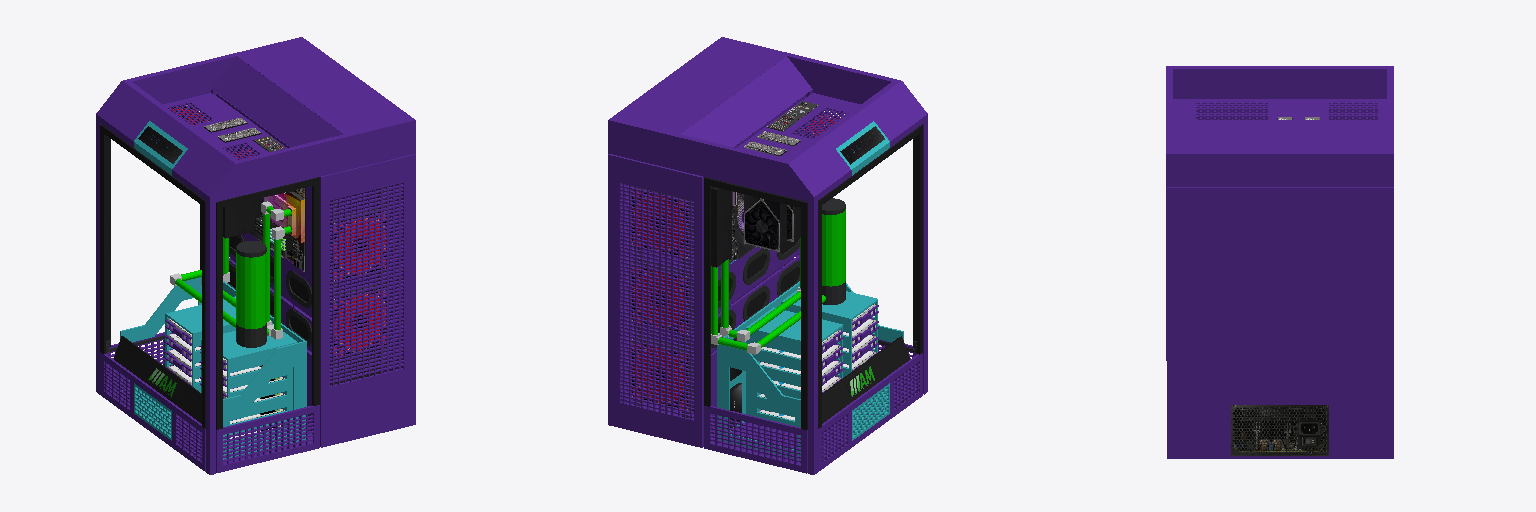
3 renders of one model, left to right at view 1: azimuth 30°, elevation 25°; view 2: azimuth 150°, elevation 25°; view 3: azimuth 270°, elevation 25°, orthographic.
Visible parts, largest first — view 1: cube; view 2: cube; view 3: cube.
Boxes of the visible parts, x1,y1,x2,y2 form: cube: [96, 37, 415, 474]; cube: [608, 37, 927, 474]; cube: [1166, 66, 1393, 458].
Size of the model in its own units: 1.06 by 1.5 by 1.02.
1 materials, 1 textured.